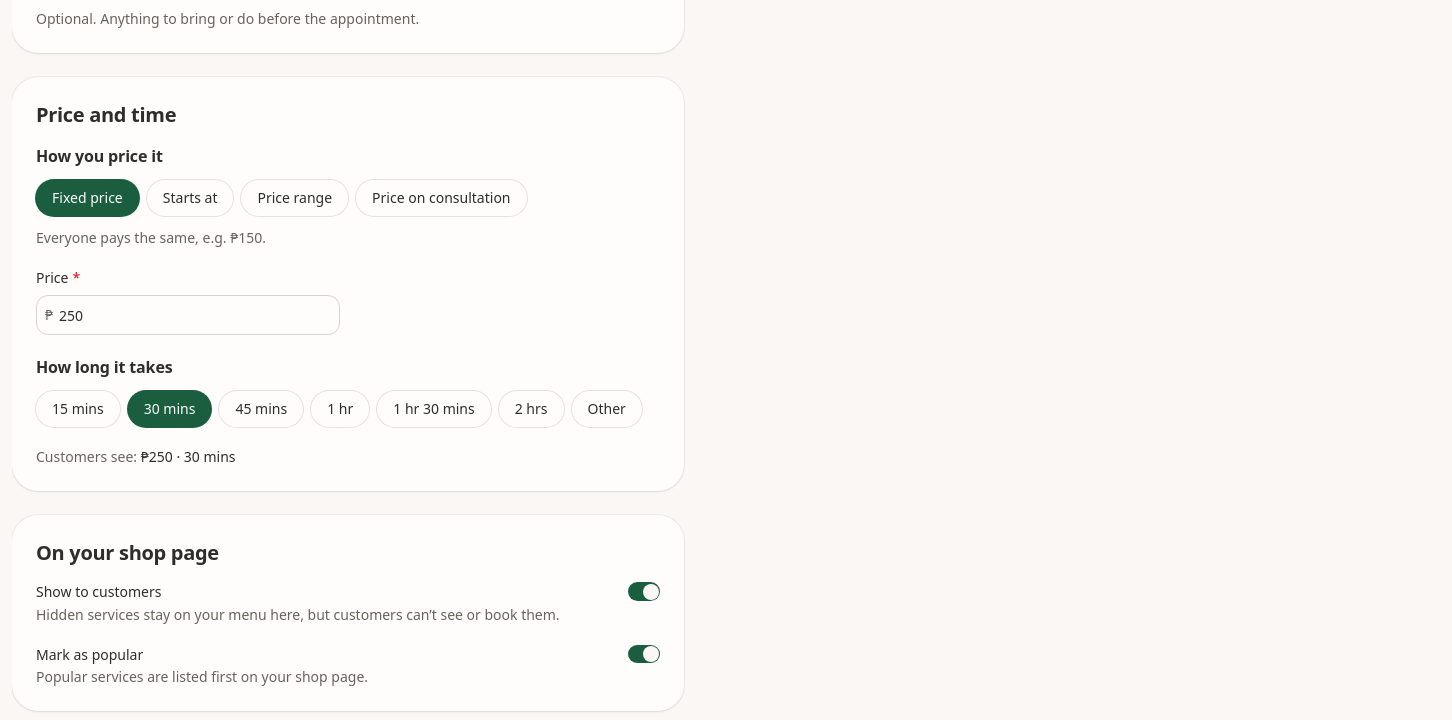
MerchantServiceEditorPage › edits a saved service
(page scrolled)
Expected: the switch named "Mark as popular" in the row of "Mark as popular" is checked, [628, 645, 660, 663]
Replace the text in the field labelled "Price *" with "280": (196, 315) [53, 295, 339, 335]
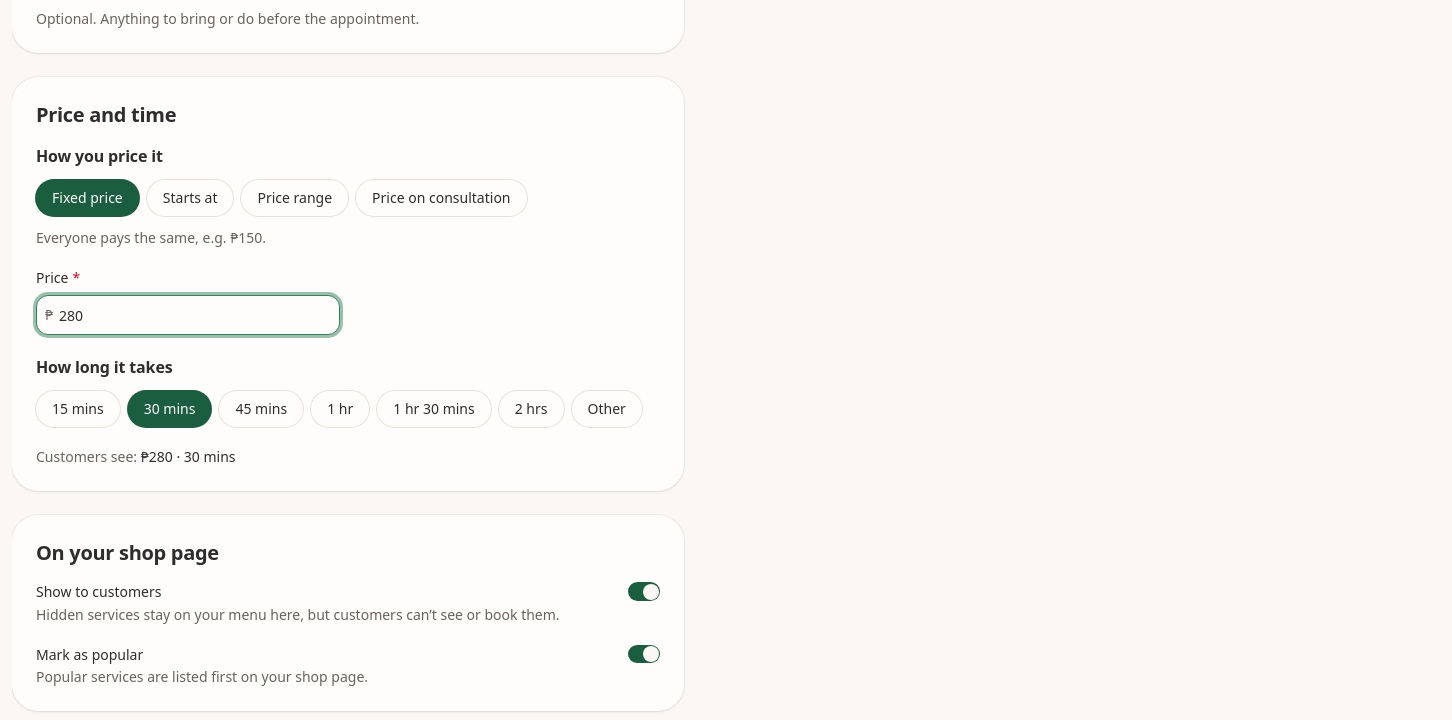
Click the switch named "Show to customers" in the row of "Show to customers": click(644, 592) [628, 582, 660, 601]
(page scrolled)
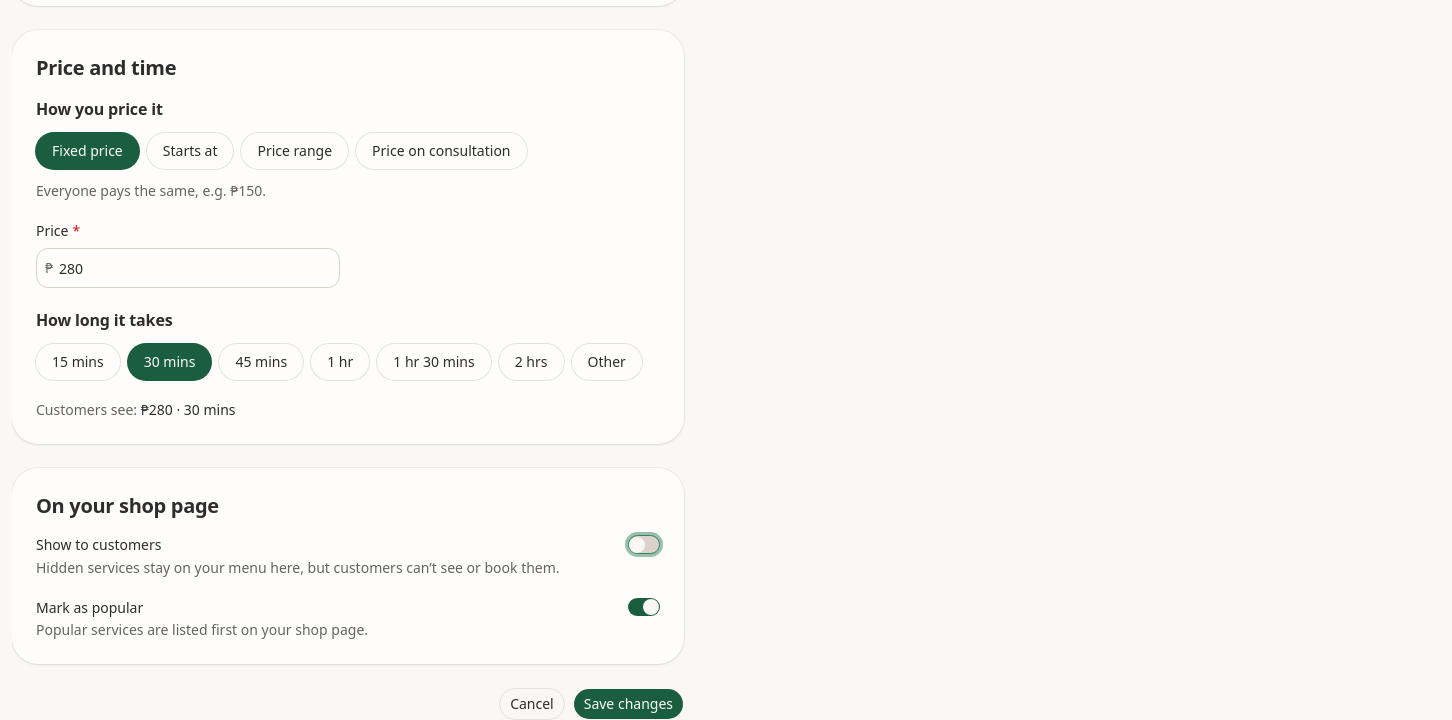
Click the button "Save changes": click(628, 704) [573, 688, 684, 719]
(page scrolled)
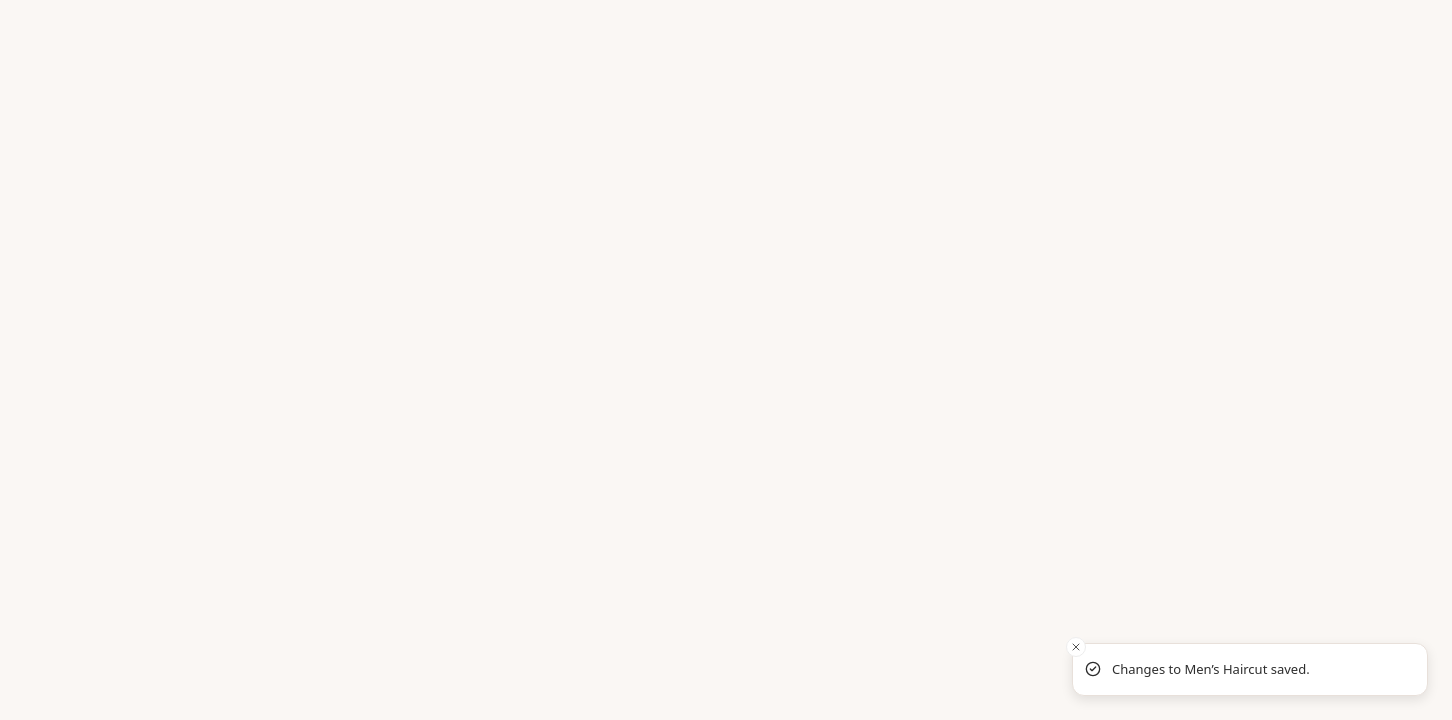
Result: the text "Changes to Men’s Haircut saved." is shown at [1112, 660, 1310, 679]
